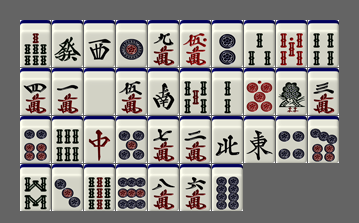0m: (180, 20, 211, 67)
0p: (244, 68, 275, 115)
0s: (276, 20, 307, 67)
1m: (52, 68, 83, 115)
1p: (116, 20, 147, 67)
1s: (276, 68, 307, 115)
1z: (244, 116, 275, 163)
2m: (180, 116, 211, 163)
2p: (212, 20, 243, 67)
2s: (212, 68, 243, 115)
2z: (148, 68, 179, 115)
3m: (308, 68, 339, 115)
3p: (52, 164, 83, 211)
3s: (244, 20, 275, 67)
3z: (84, 20, 115, 67)
4m: (20, 68, 51, 115)
4p: (276, 116, 307, 163)
4s: (308, 20, 339, 67)
4z: (212, 116, 243, 163)
5m: (116, 68, 147, 115)
5p: (116, 116, 147, 163)
5s: (180, 68, 211, 115)
5z: (84, 68, 115, 115)
6m: (180, 164, 211, 211)
6p: (20, 116, 51, 163)
6s: (52, 116, 83, 163)
6z: (52, 20, 83, 67)
7m: (148, 116, 179, 163)
7p: (308, 116, 339, 163)
7s: (20, 20, 51, 67)
7z: (84, 116, 115, 163)
8m: (148, 164, 179, 211)
8p: (212, 164, 243, 211)
8s: (20, 164, 51, 211)
9m: (148, 20, 179, 67)
9p: (116, 164, 147, 211)
9s: (84, 164, 115, 211)
